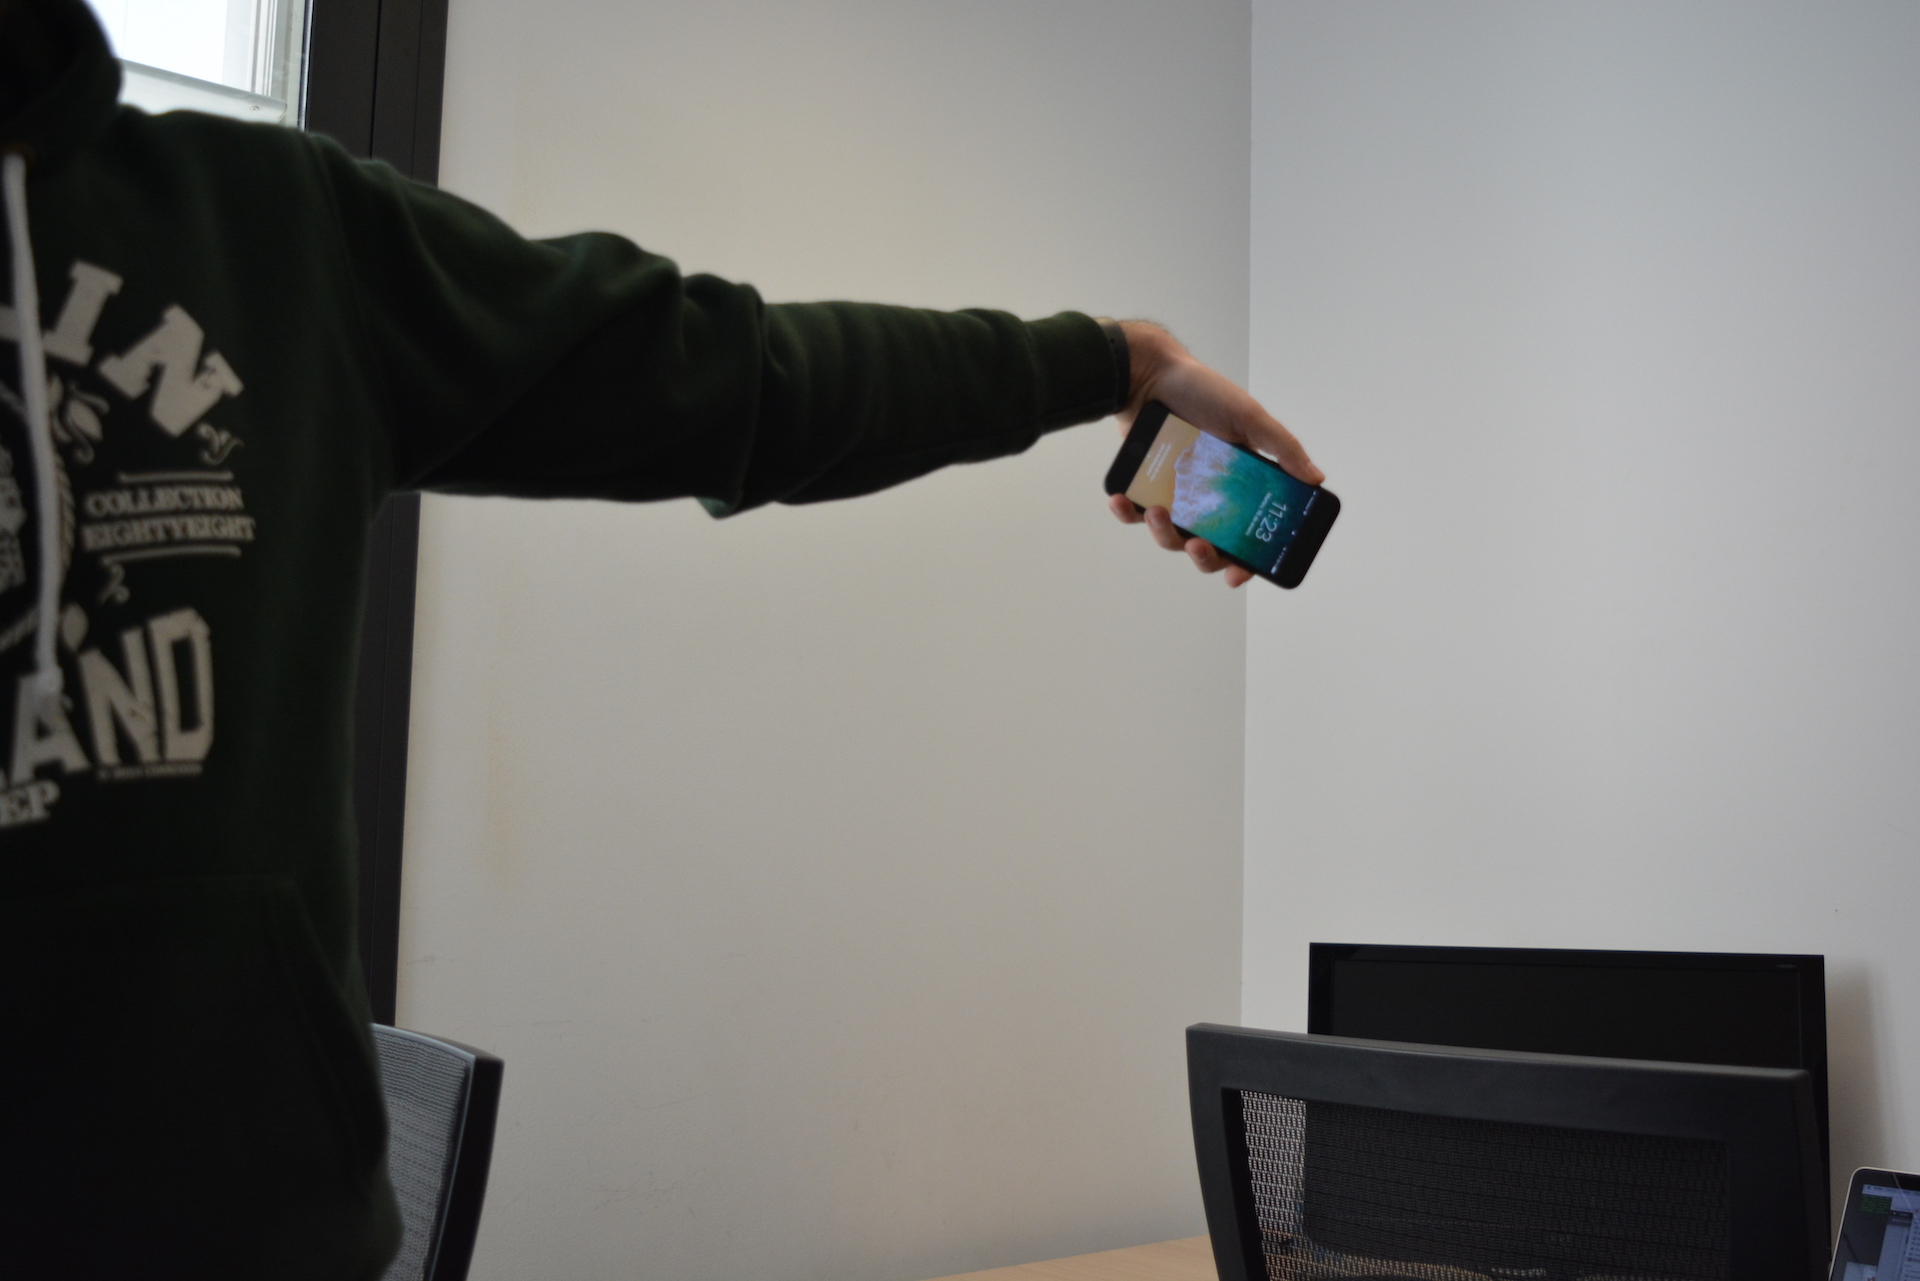smartphone: (1102, 396, 1342, 590)
